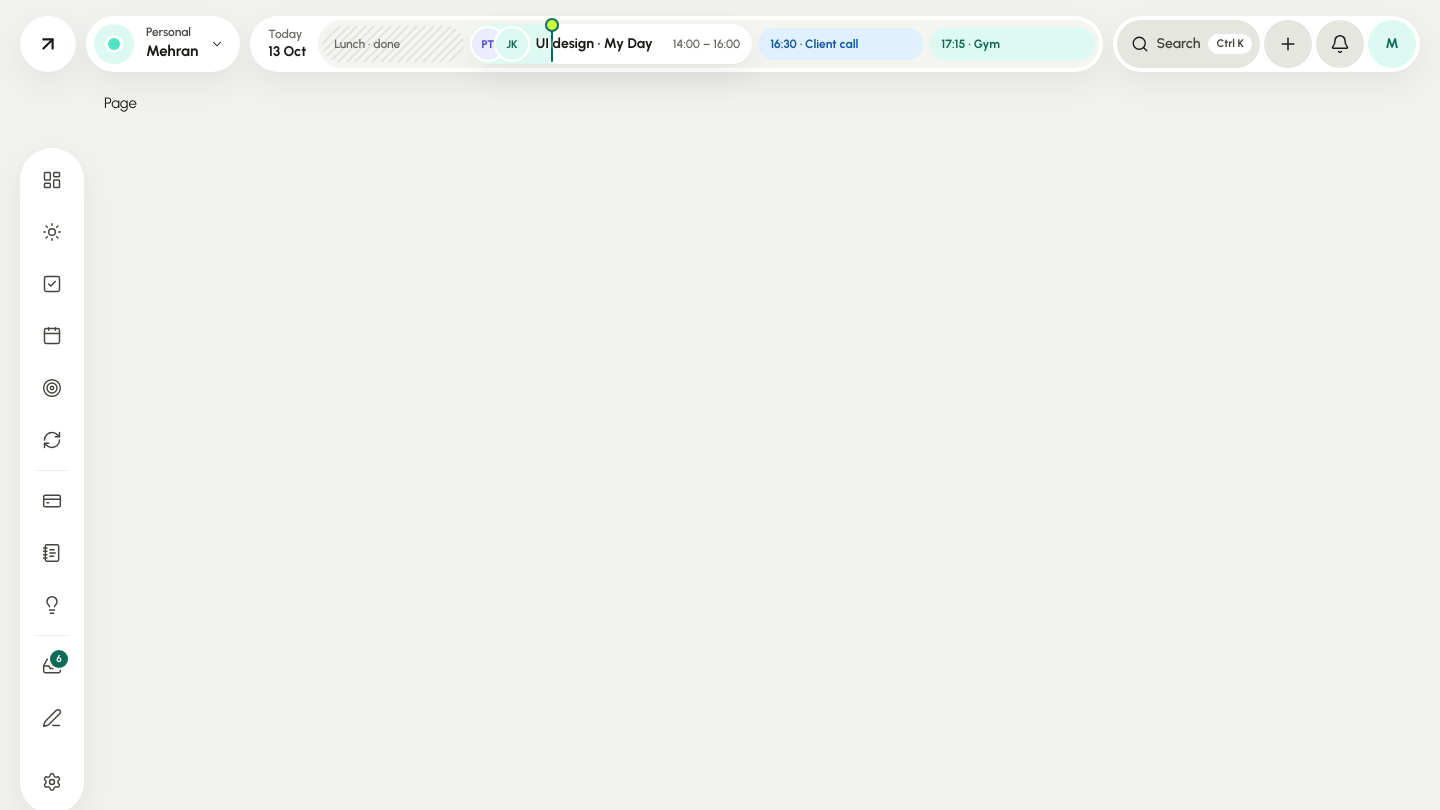
Scenario: profile menu › is non-modal: the page is never aria-hidden, Escape closes and focus returns
Click the button named "Account menu". click: point(1392, 44)
box: [1368, 20, 1416, 68]
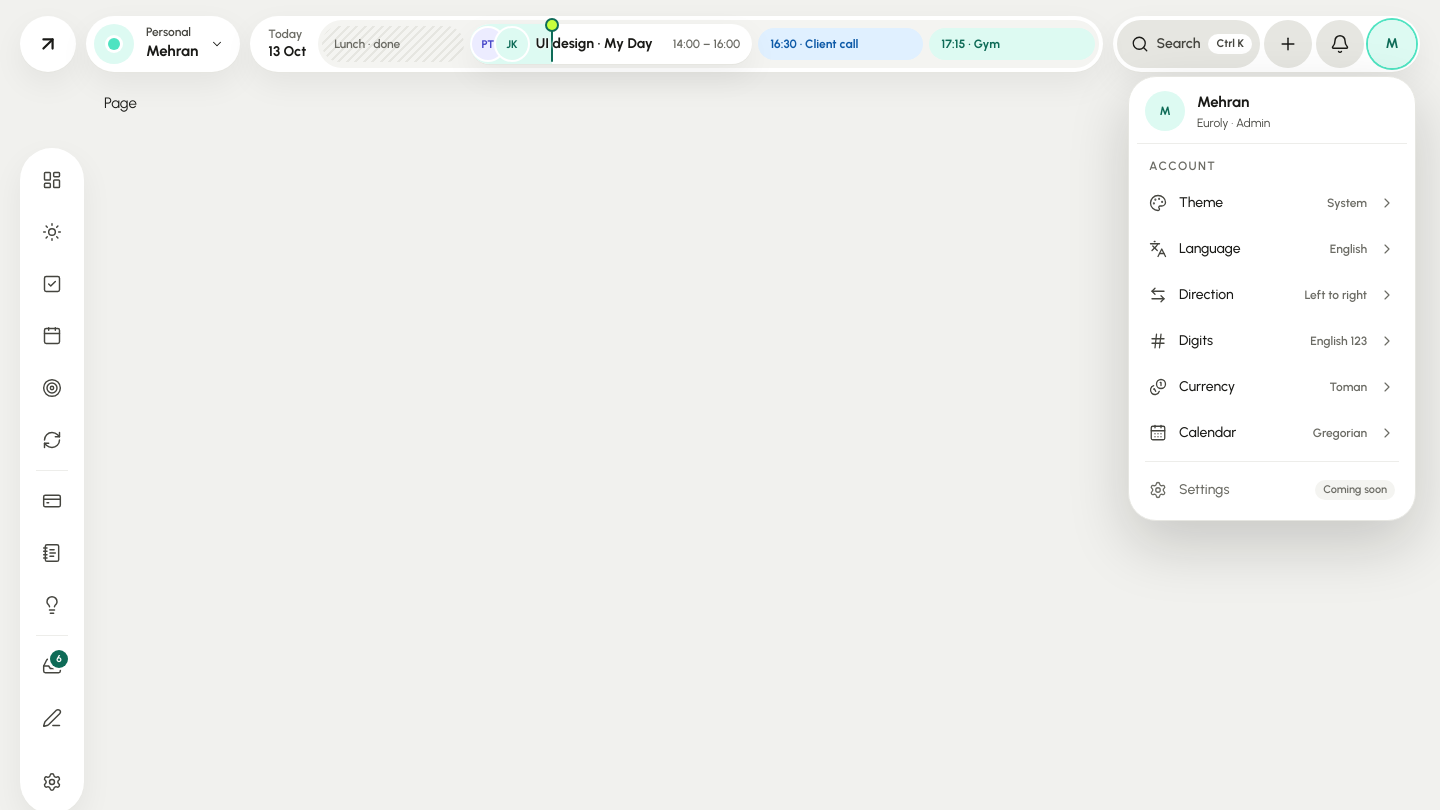
Expected: the menu is shown, [1128, 76, 1416, 521]
Press Escape
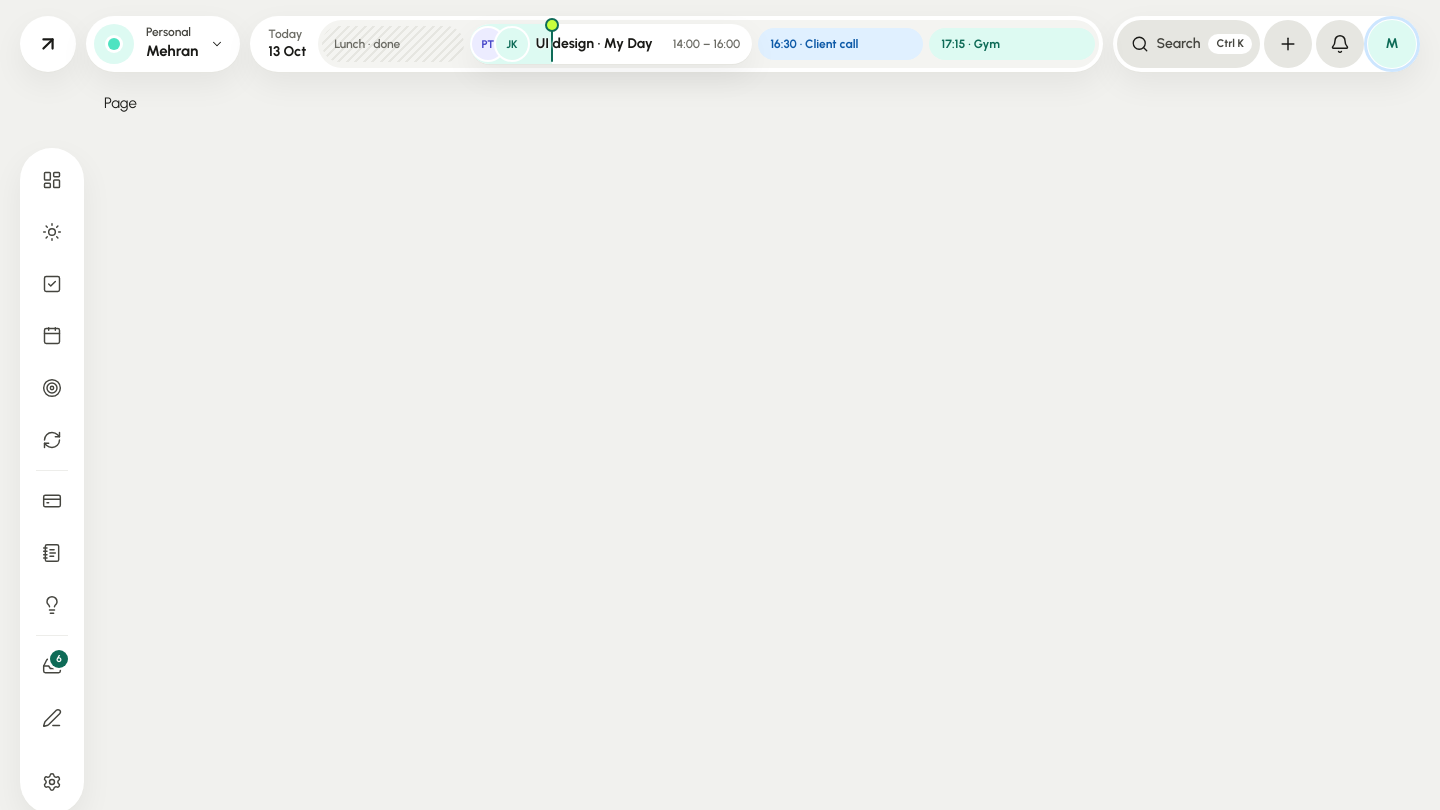
Expected: the menu is gone
